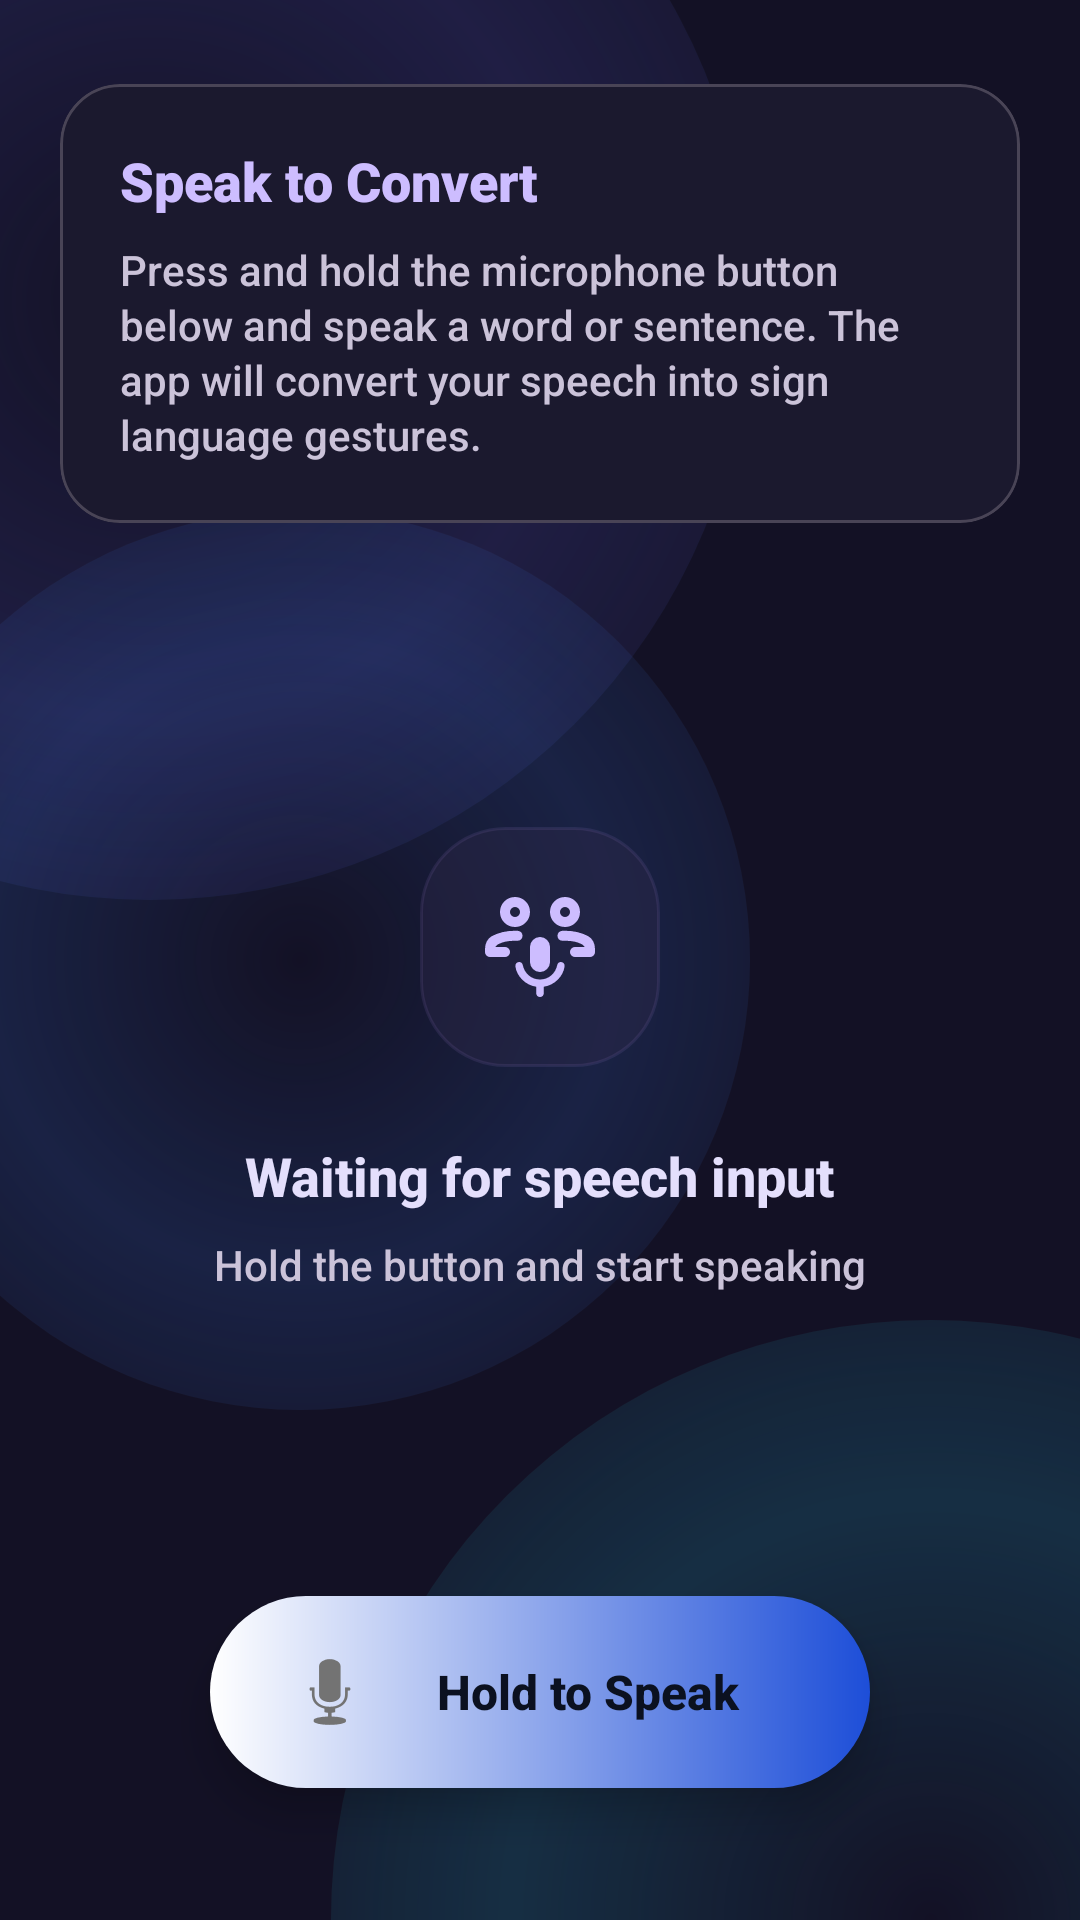

Where to tap for icons on this 1080px×1920px app screen, as (x=x, y=y):
adaptive audio mic: (x=571, y=947)
